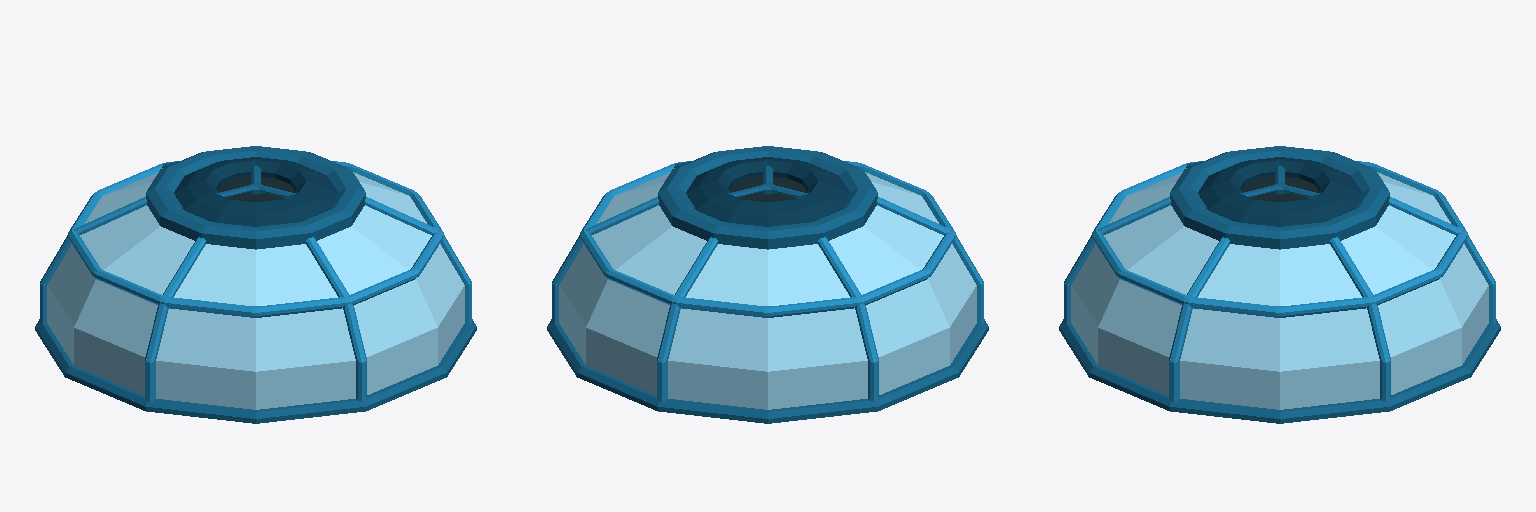
The model's file is Spacestation_Structure_Habitat.obj.
3 renders of one model, left to right at view 1: azimuth 30°, elevation 25°; view 2: azimuth 150°, elevation 25°; view 3: azimuth 270°, elevation 25°, orthographic.
Parts seen in each view (by area): view 1: object3, object7, object5, object4, object2, object1, object6; view 2: object3, object7, object5, object4, object2, object1, object6; view 3: object3, object7, object5, object4, object2, object1, object6.
Boxes of the visible parts, x1,y1,x2,y2 form: object3: [47, 172, 464, 409]; object7: [40, 161, 471, 401]; object5: [146, 146, 365, 249]; object4: [174, 157, 337, 226]; object2: [35, 319, 476, 423]; object1: [218, 177, 293, 202]; object6: [216, 166, 295, 197]; object3: [559, 172, 976, 409]; object7: [552, 161, 983, 401]; object5: [658, 146, 877, 249]; object4: [686, 157, 849, 226]; object2: [547, 319, 988, 423]; object1: [730, 177, 805, 202]; object6: [728, 166, 807, 197]; object3: [1071, 172, 1488, 409]; object7: [1064, 161, 1495, 401]; object5: [1170, 146, 1389, 249]; object4: [1198, 157, 1361, 226]; object2: [1059, 319, 1500, 423]; object1: [1242, 177, 1317, 202]; object6: [1240, 166, 1319, 197].
Bounding box in the file's own units: 2.1 × 0.7844 × 2.1.